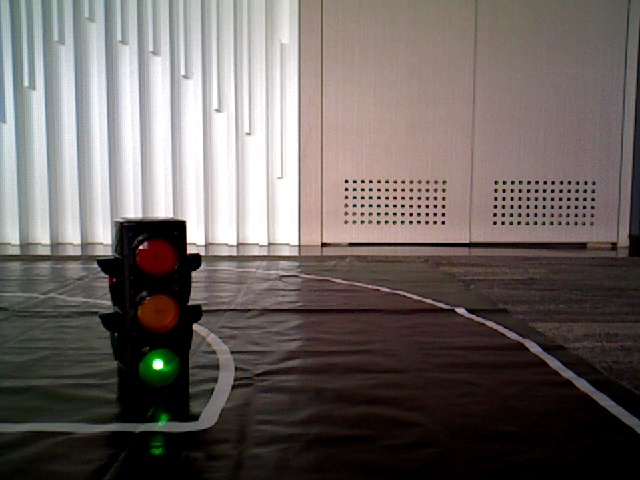green: (114, 226, 185, 398)
